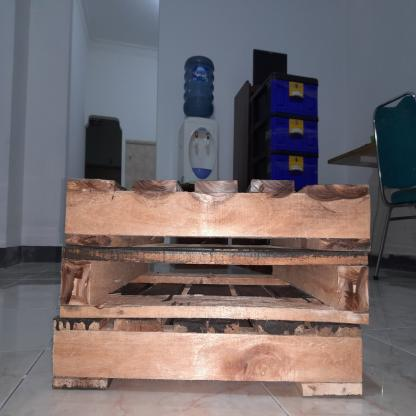Wooden-Pallet: (57, 245, 371, 326), (52, 318, 365, 399), (65, 176, 374, 250)
